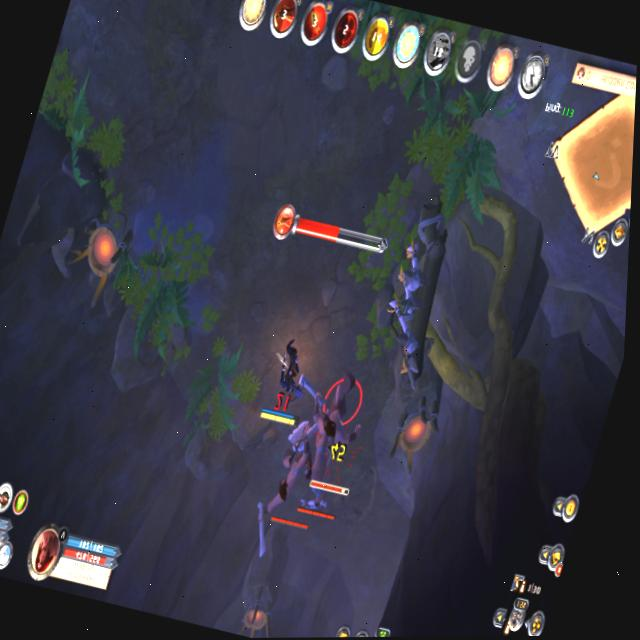ore: (246, 406, 341, 558), (286, 380, 368, 528), (297, 370, 384, 503)
red: (254, 327, 323, 436)
